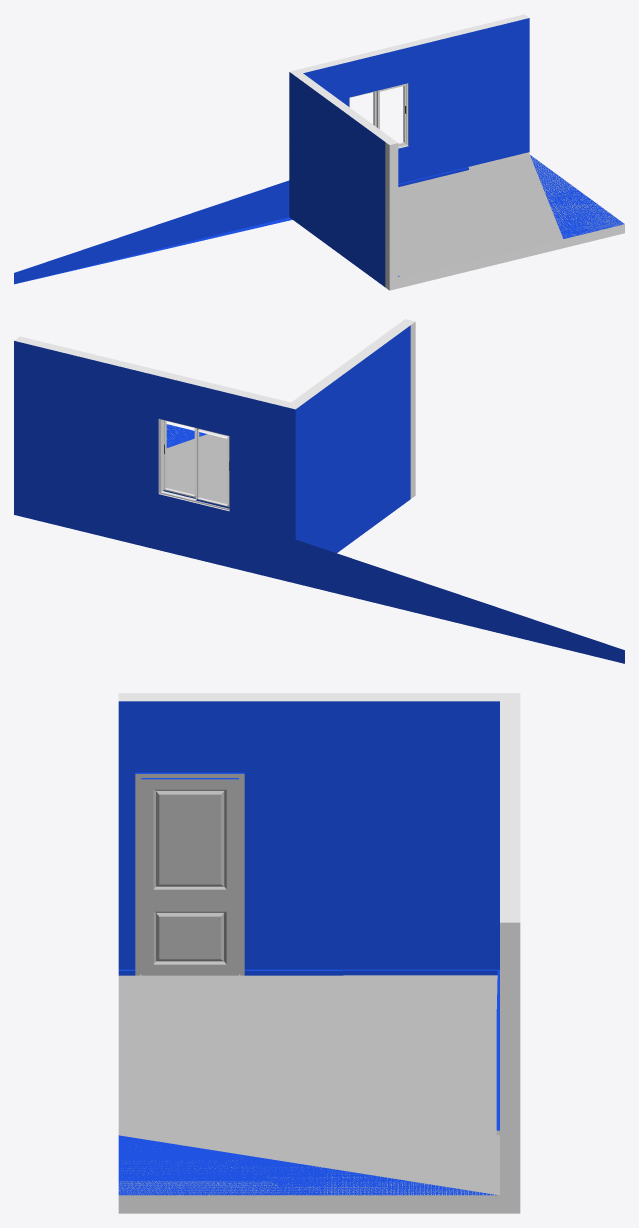
Rendered from room.obj.
The picture shows the model from 3 angles, top to bottom: view 1: azimuth 30°, elevation 25°; view 2: azimuth 150°, elevation 25°; view 3: azimuth 270°, elevation 25°; orthographic projection. The views are drawn at different scales.
Parts seen in each view (by area): view 1: Habitacion; view 2: Habitacion; view 3: Habitacion.
Boxes of the visible parts, bbox=[...] form: Habitacion: bbox=[14, 14, 624, 290]; Habitacion: bbox=[14, 319, 624, 663]; Habitacion: bbox=[118, 693, 520, 1213].
Size of the model in its own units: 28.32 by 7.71 by 9.64.
